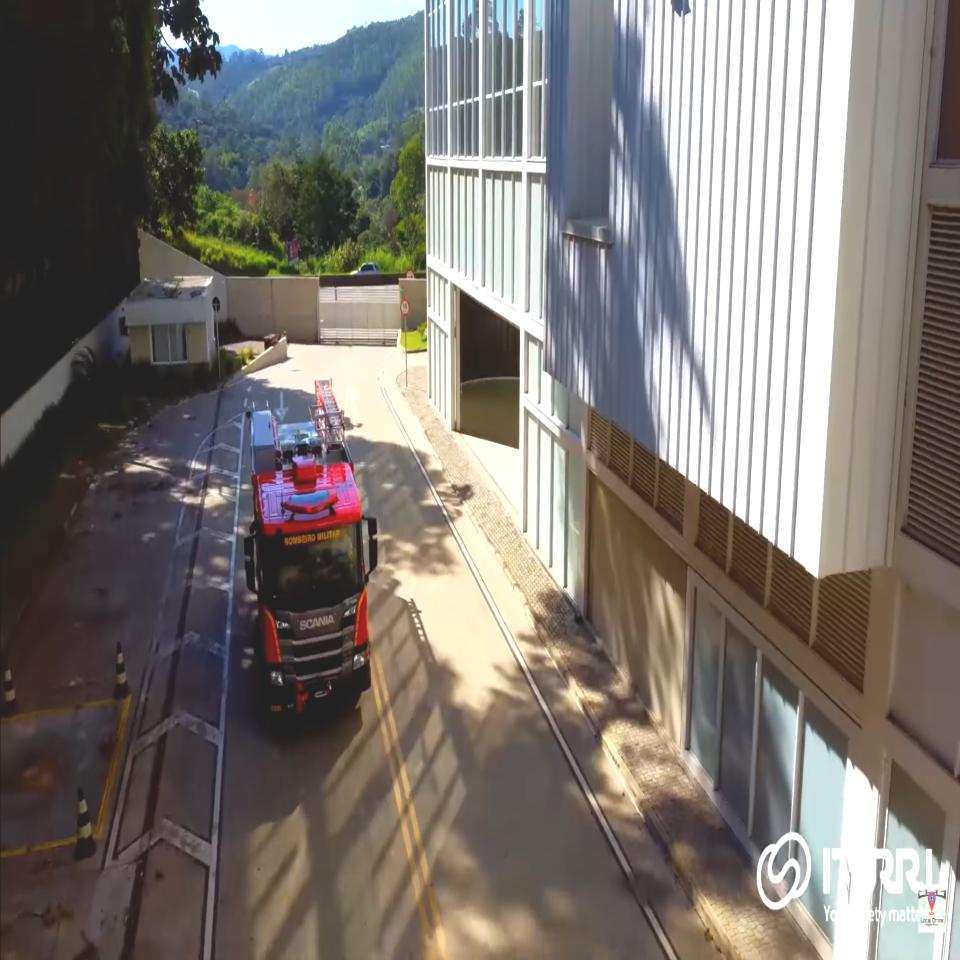bombeiro: (238, 378, 382, 737)
